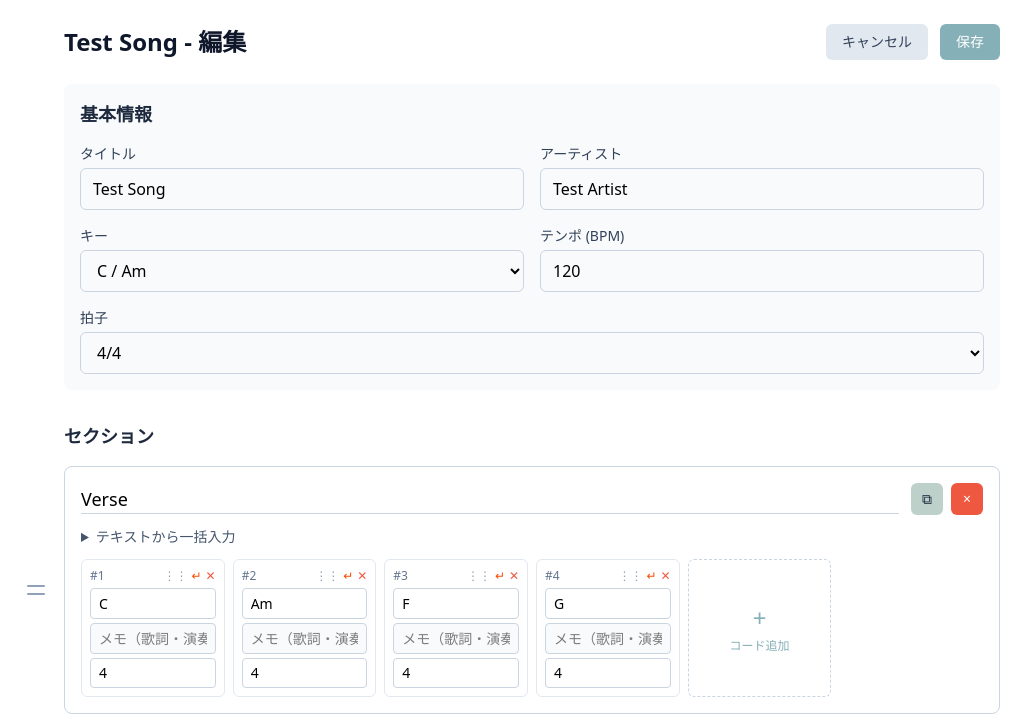
it: ChordChartEditor › バリデーション機能 › 複数のバリデーションエラーを同時に表示する
// コード名を空にする
Clear the 2nd field with placeholder "コード名": (153, 604) [90,588,216,619]
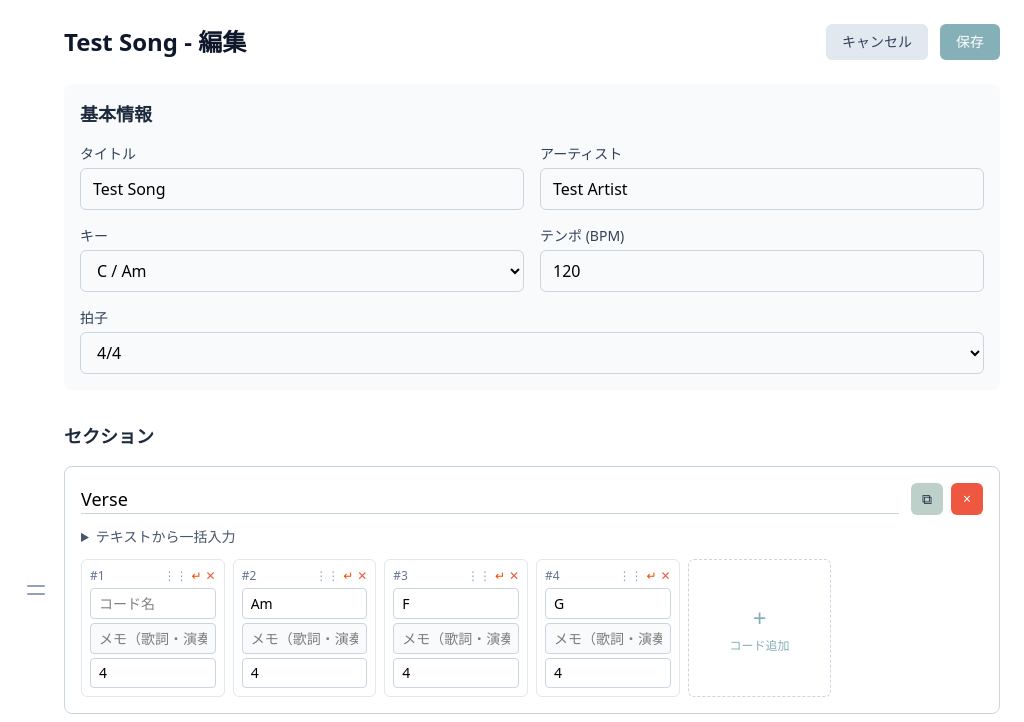
//  拍数も空にする
Clear the 1st number field with placeholder "拍数": (153, 673) [90,658,216,688]
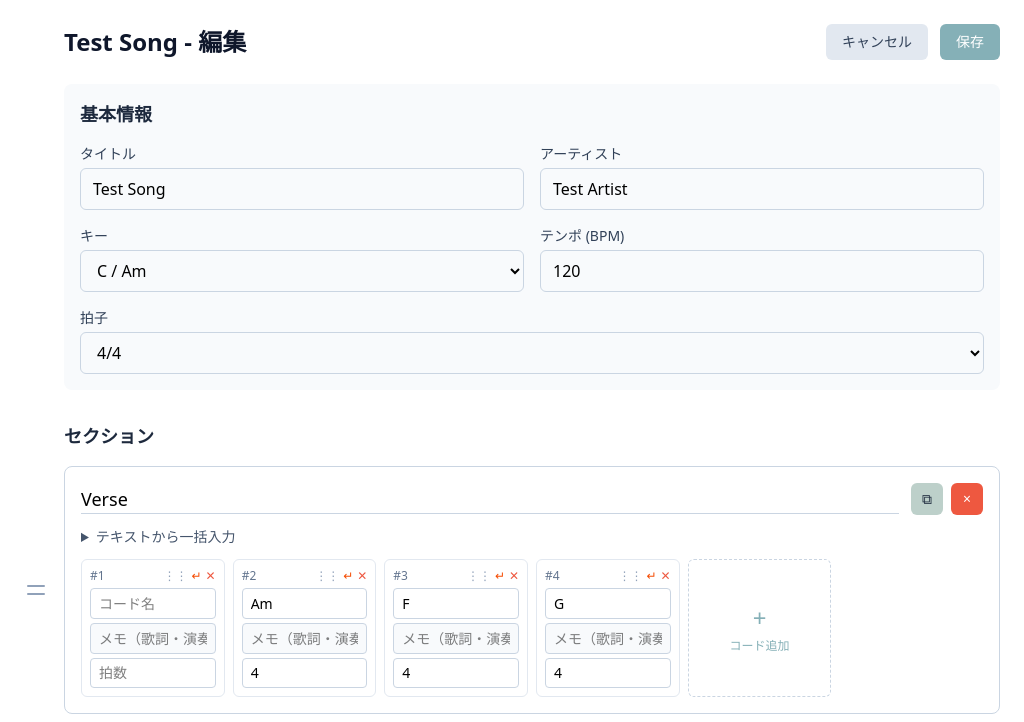
// 保存ボタンをクリック
Click the button with test id "editor-save-button": click(970, 42) [940,24,1000,60]
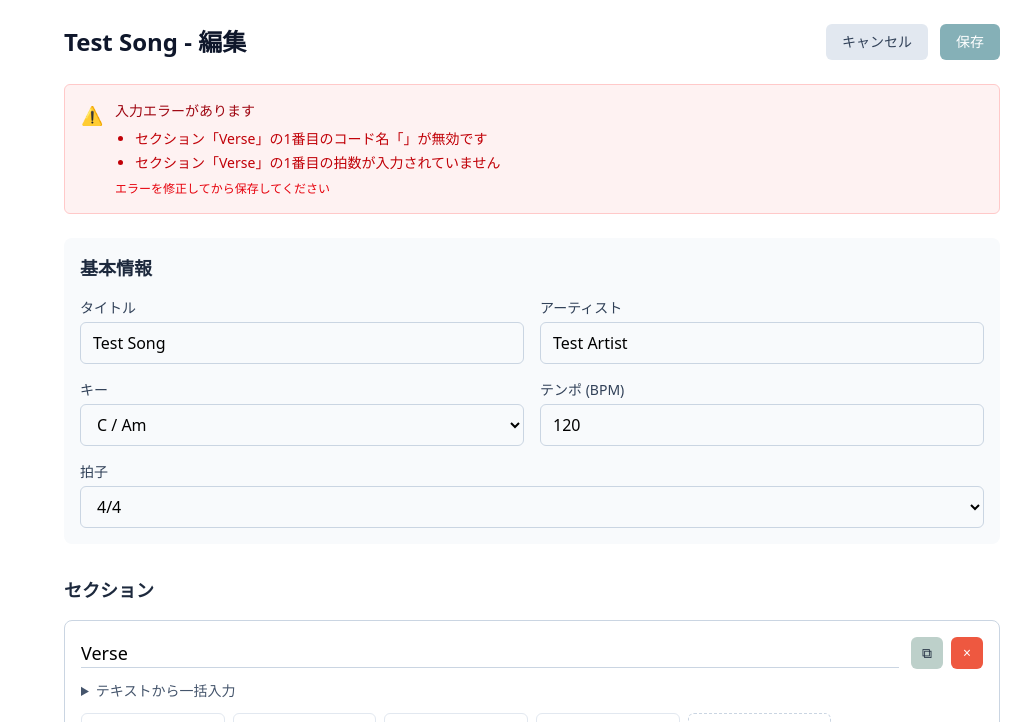
Now the heading "入力エラーがあります" is shown, box [115,101,255,120]
Now the list item "セクション「Verse」の1番目のコード名「」が無効です" is shown, box [135,129,501,149]
Now the list item "セクション「Verse」の1番目の拍数が入力されていません" is shown, box [135,153,501,173]
